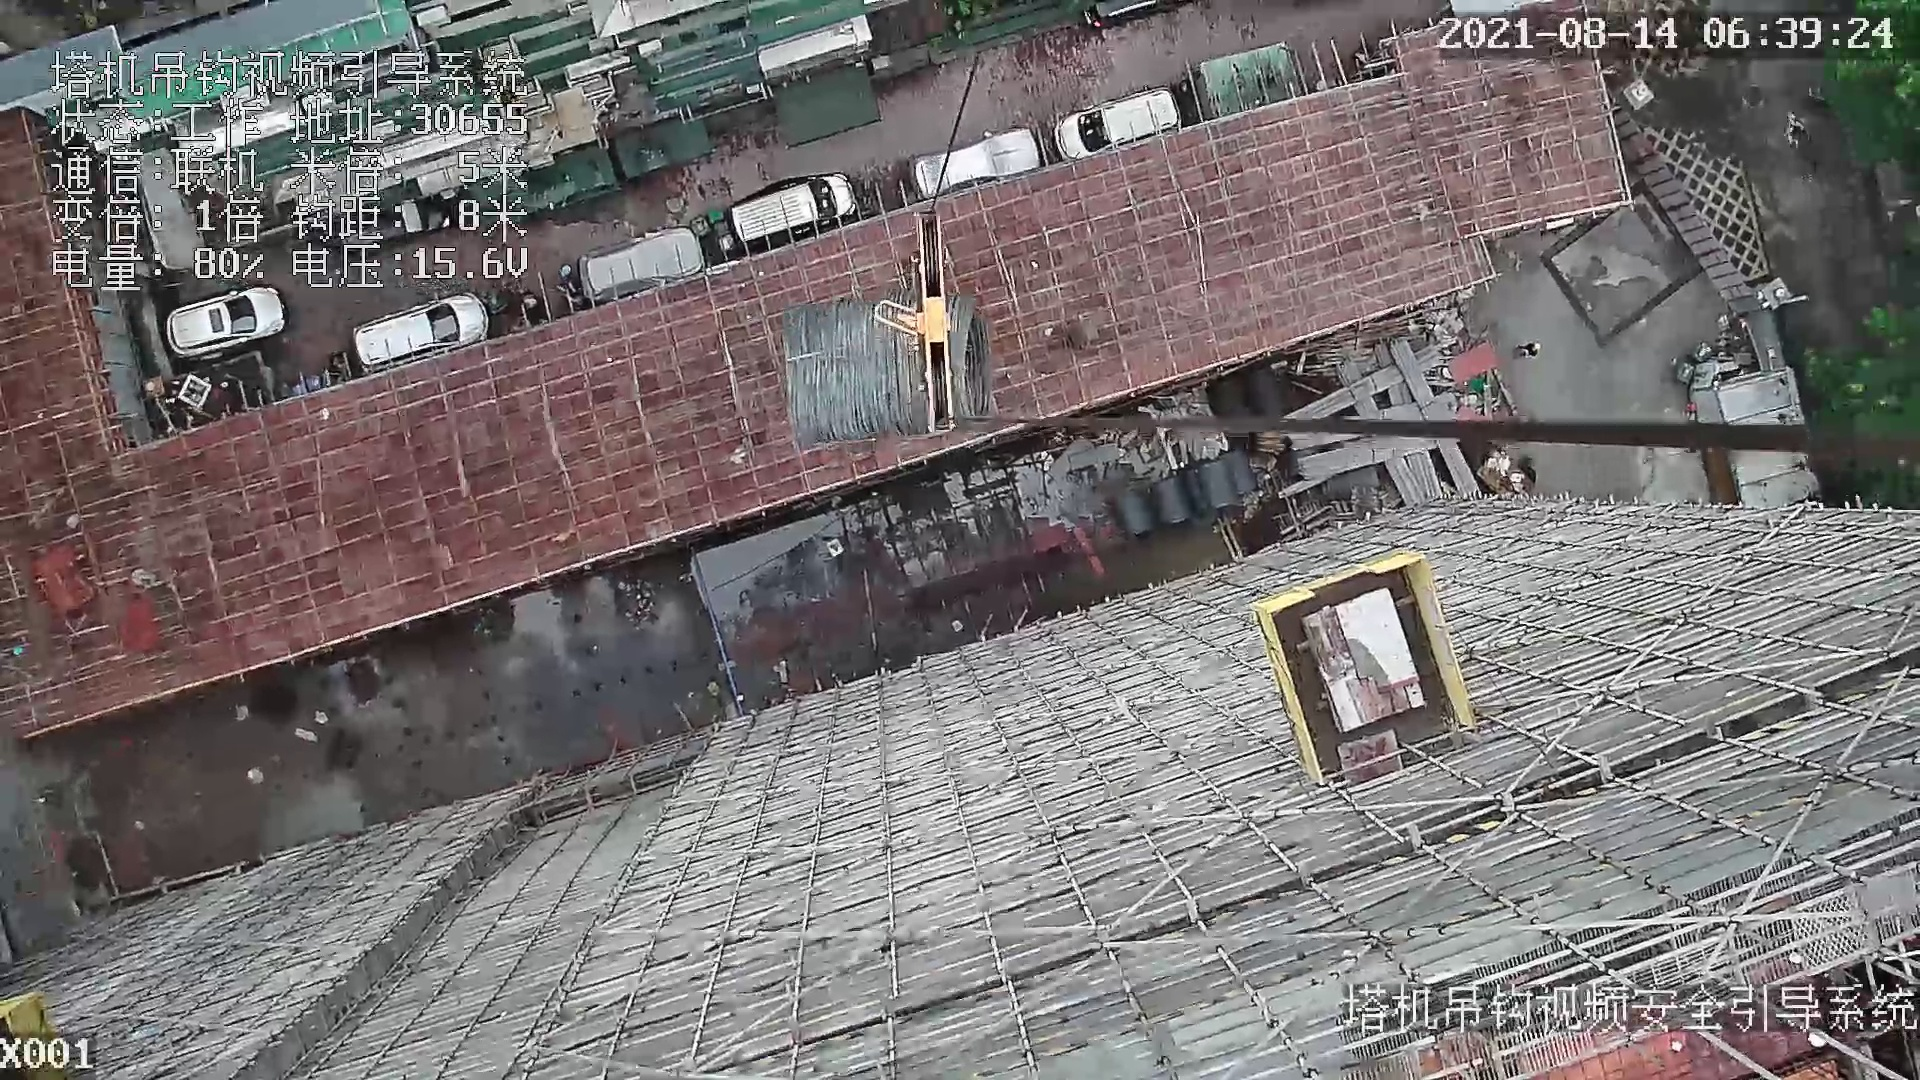hook: (873, 210, 967, 439)
